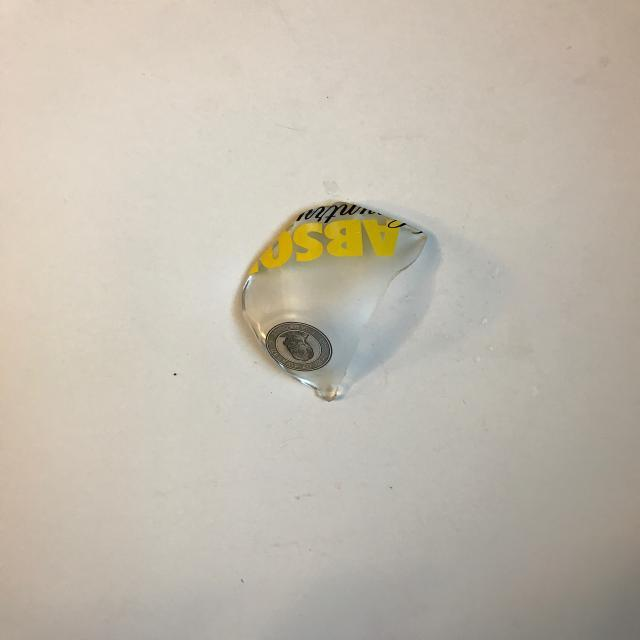glass: (242, 202, 445, 402)
